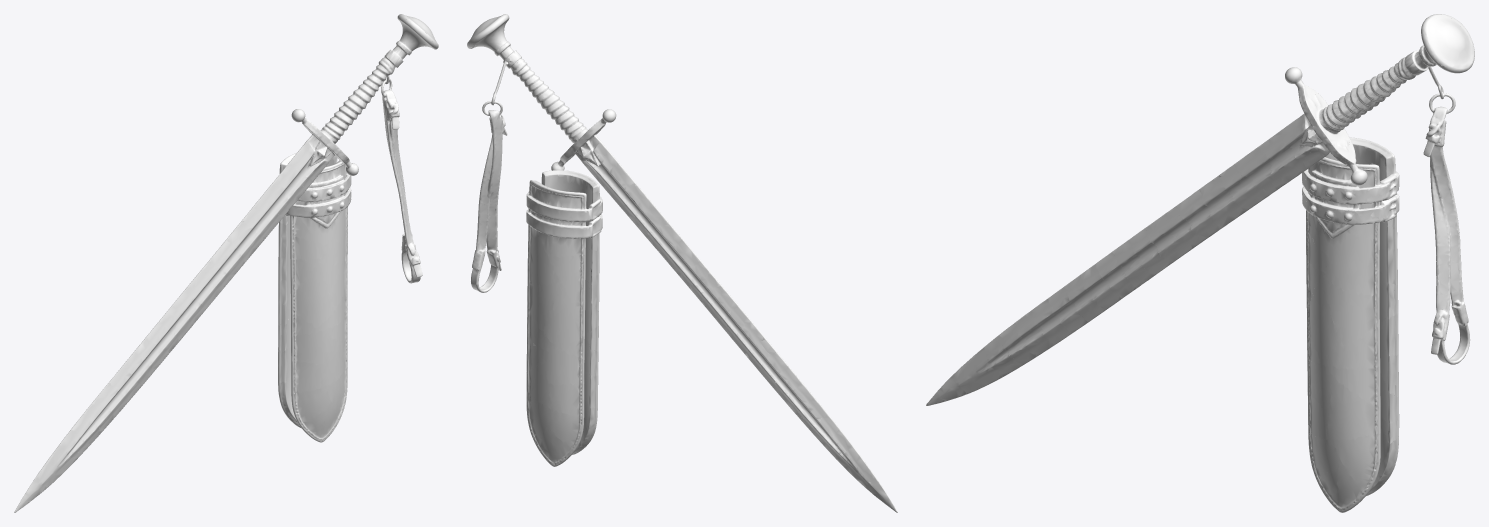
Rendered from SirAldric_SEP_sword_scabbard_PAINTED_mid80k.glb.
3 renders of one model, left to right at view 1: azimuth 30°, elevation 25°; view 2: azimuth 150°, elevation 25°; view 3: azimuth 330°, elevation 25°, orthographic. The views are drawn at different scales.
Visible parts, largest first — view 1: SirAldric_SEP_sword_scabbard_PAINTED_MID450; view 2: SirAldric_SEP_sword_scabbard_PAINTED_MID450; view 3: SirAldric_SEP_sword_scabbard_PAINTED_MID450.
Boxes of the visible parts, x1,y1,x2,y2 form: SirAldric_SEP_sword_scabbard_PAINTED_MID450: (14,14,438,512); SirAldric_SEP_sword_scabbard_PAINTED_MID450: (467,14,897,512); SirAldric_SEP_sword_scabbard_PAINTED_MID450: (926,14,1474,512).
Size of the model in its own units: 1.9 by 1.77 by 0.321.
1 material, 1 textured.
